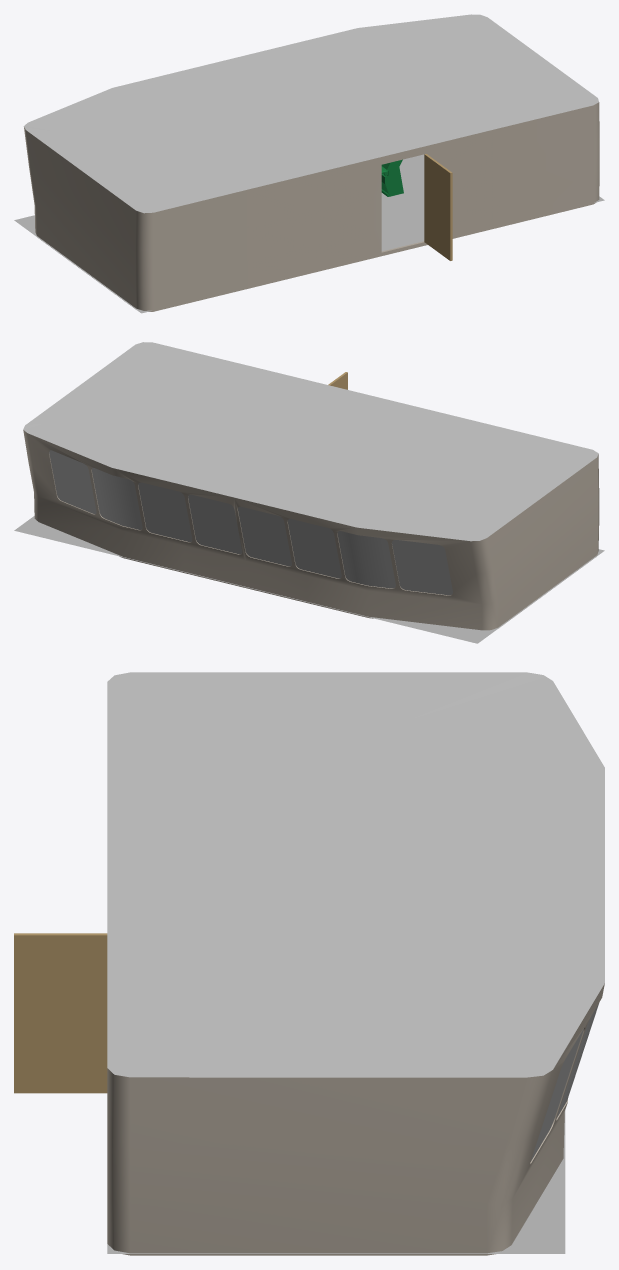
File: Komentosilta.fbx
3 views of the same model, one above another, from view 1: azimuth 30°, elevation 25°; view 2: azimuth 150°, elevation 25°; view 3: azimuth 270°, elevation 25° (orthographic). The views are drawn at different scales.
Parts seen in each view (by area): view 1: command_bridge.001, command_bridge, command_bridge_floor, command_bridge_door, console_ends; view 2: command_bridge.001, command_bridge, windows, command_bridge_floor; view 3: command_bridge.001, command_bridge, command_bridge_door, command_bridge_floor, windows.
Part boxes in pixels (x1,y1,x2,y2): command_bridge.001: [24, 14, 598, 213]; command_bridge: [24, 102, 599, 311]; command_bridge_floor: [14, 154, 604, 313]; command_bridge_door: [424, 154, 452, 260]; console_ends: [385, 159, 403, 196]; command_bridge.001: [23, 342, 598, 541]; command_bridge: [23, 430, 599, 630]; windows: [49, 450, 452, 595]; command_bridge_floor: [14, 516, 604, 643]; command_bridge.001: [107, 672, 604, 1077]; command_bridge: [107, 983, 604, 1255]; command_bridge_door: [14, 933, 107, 1093]; command_bridge_floor: [107, 1110, 565, 1253]; windows: [530, 1003, 598, 1161].
Bounding box in the file's own units: 1166 × 239 × 716.
